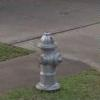a fire hydrant: (33, 29, 64, 93)
